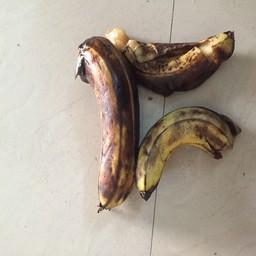Bad_banana: (71, 25, 136, 211), (136, 103, 240, 210), (106, 26, 239, 96)
